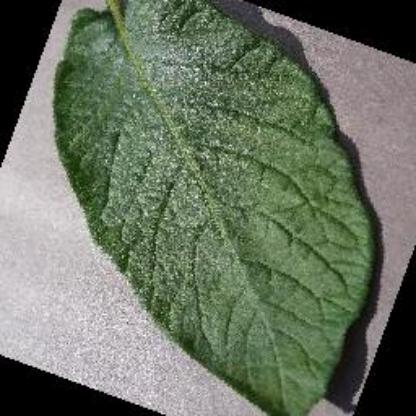Healthy-plant: (51, 0, 374, 414)
